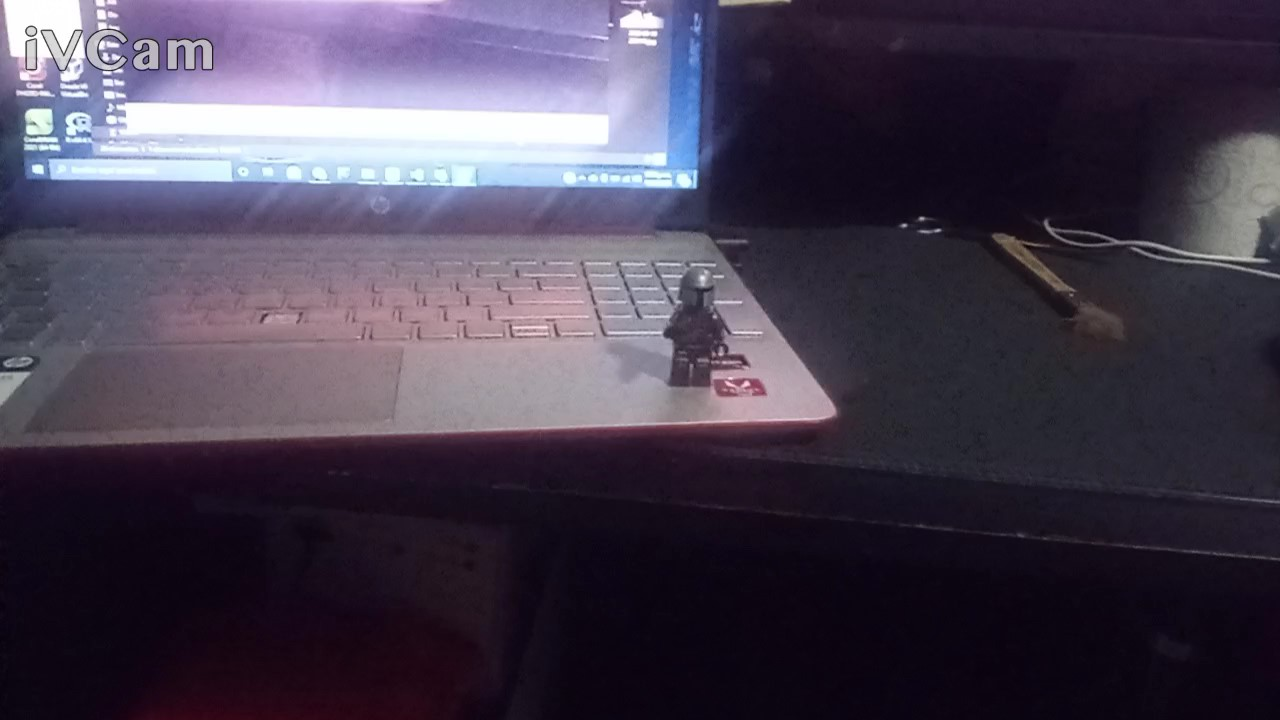mandalorian: (651, 271, 731, 393)
